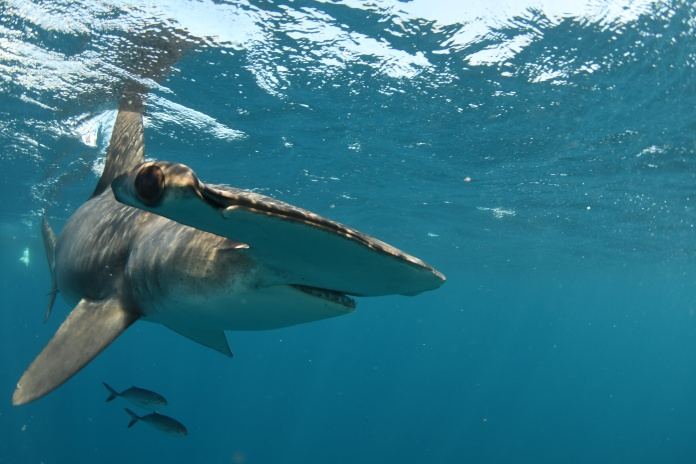Hammer: (1, 77, 468, 412)
